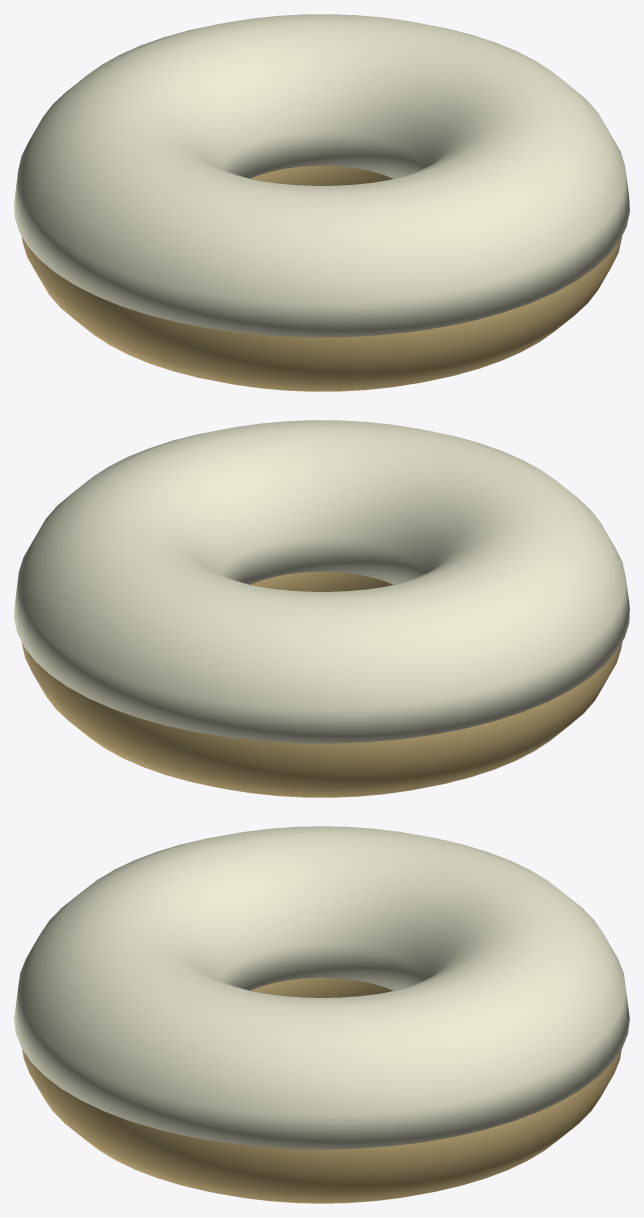
3 views of the same model, one above another, from view 1: azimuth 30°, elevation 25°; view 2: azimuth 150°, elevation 25°; view 3: azimuth 270°, elevation 25° (orthographic).
Visible parts, largest first — view 1: Torus.002, Torus.001; view 2: Torus.002, Torus.001; view 3: Torus.002, Torus.001.
Part boxes in pixels (left/top/right/bottom): Torus.002: left=14, top=14, right=629, bottom=337; Torus.001: left=21, top=165, right=622, bottom=391; Torus.002: left=14, top=420, right=629, bottom=743; Torus.001: left=21, top=571, right=622, bottom=797; Torus.002: left=14, top=826, right=629, bottom=1149; Torus.001: left=22, top=977, right=621, bottom=1203.
Bounding box in the file's own units: 3.03 × 1.02 × 3.03.
